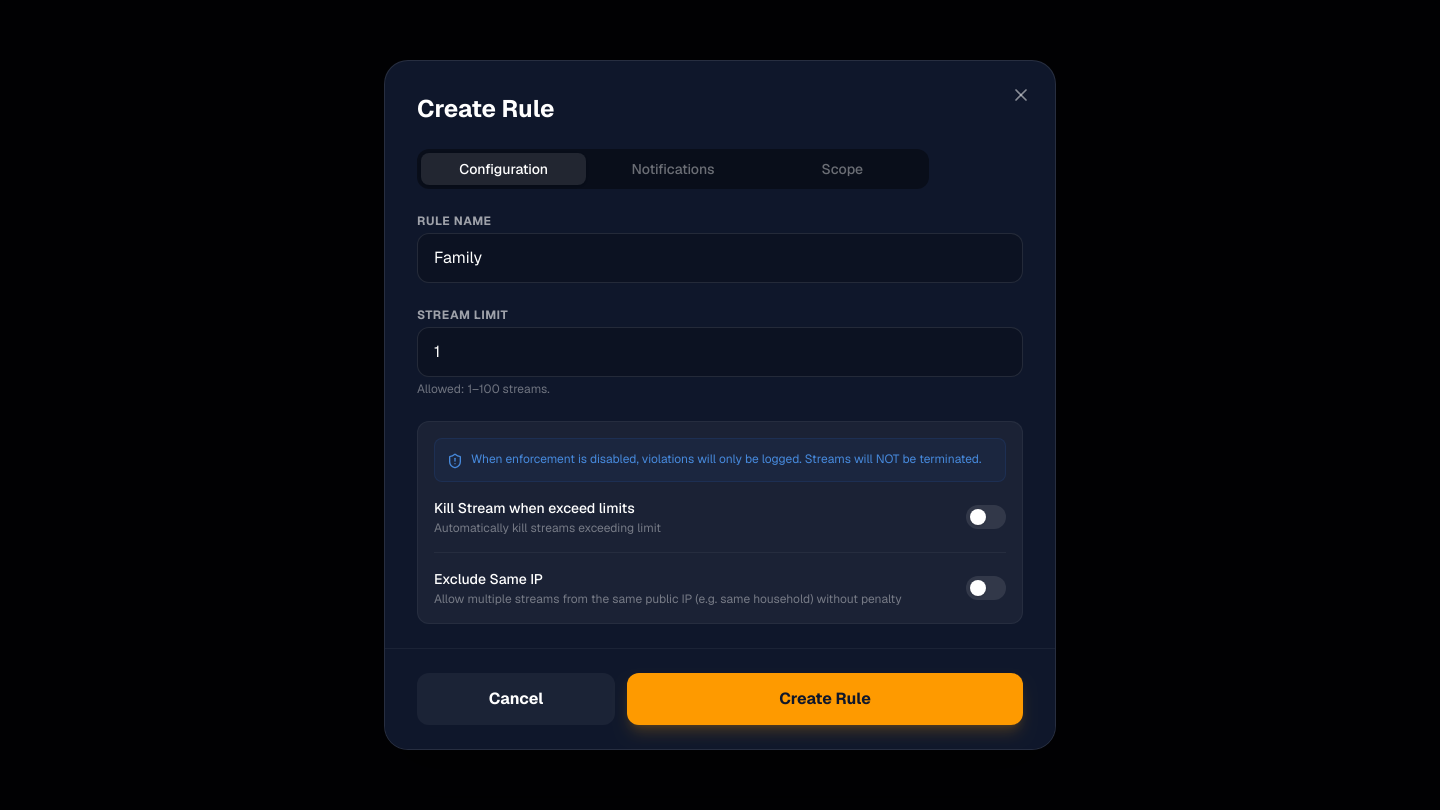
RuleModal validation › keeps the modal open and toasts when saving fails
Click the button "Create Rule".
click(825, 699)  # box [627,673,1023,725]
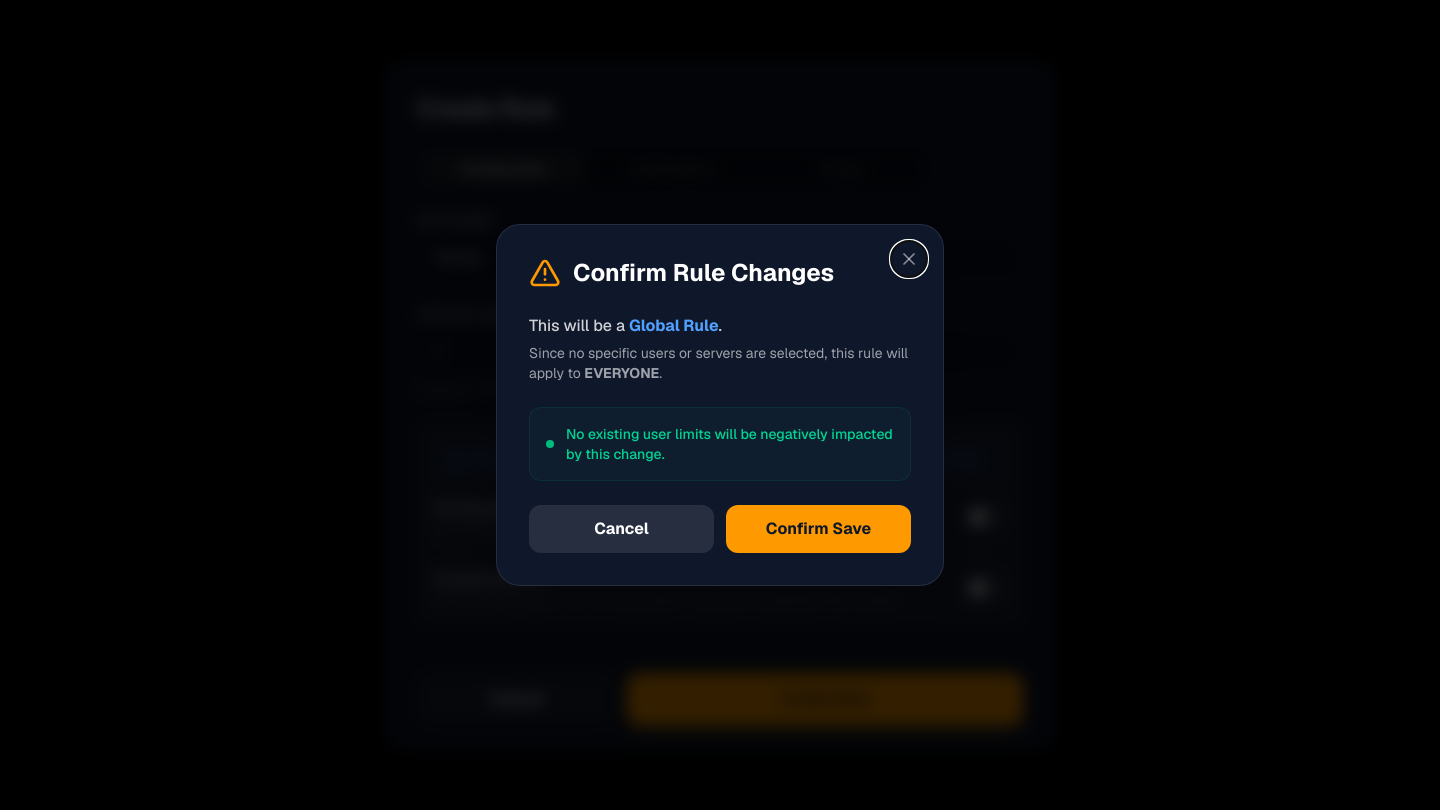
Note: Global scope asks for confirmation first.
Click the button "Confirm Save".
click(818, 529)  # box [726,505,911,553]
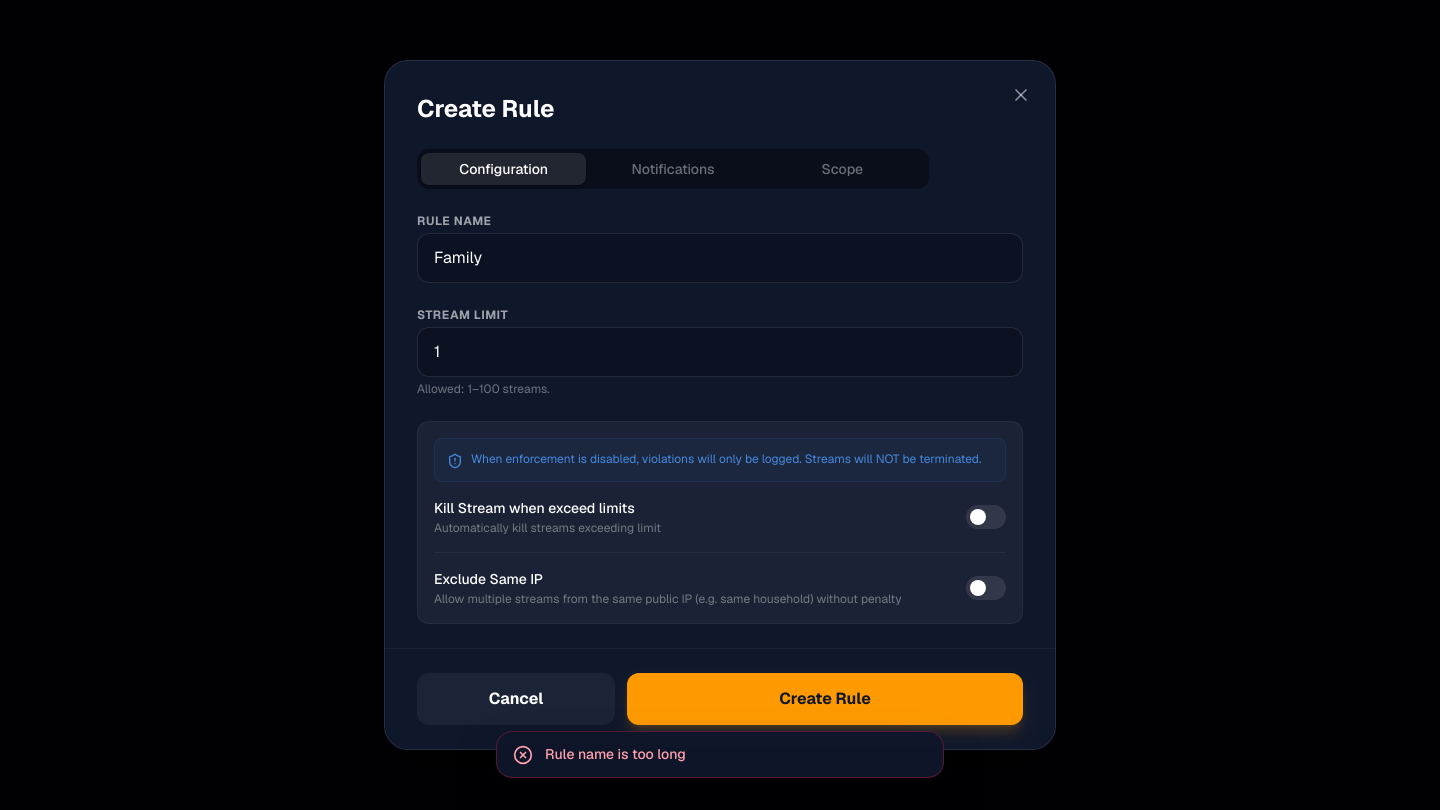
expect the field labelled "Rule Name" holds "Family": met, box [417,233,1023,283]
expect the text "Rule name is too long" is shown: met, box [545,744,686,764]
